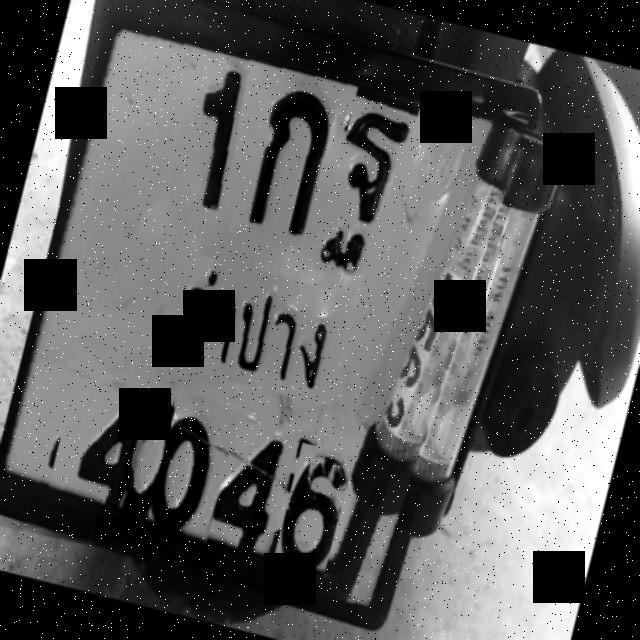letters: (312, 83, 422, 284), (228, 76, 339, 249), (44, 375, 158, 522), (143, 390, 246, 550), (153, 54, 255, 212), (206, 419, 300, 562), (272, 442, 354, 578)
license-plate: (0, 0, 536, 605)
province: (142, 248, 360, 407)
